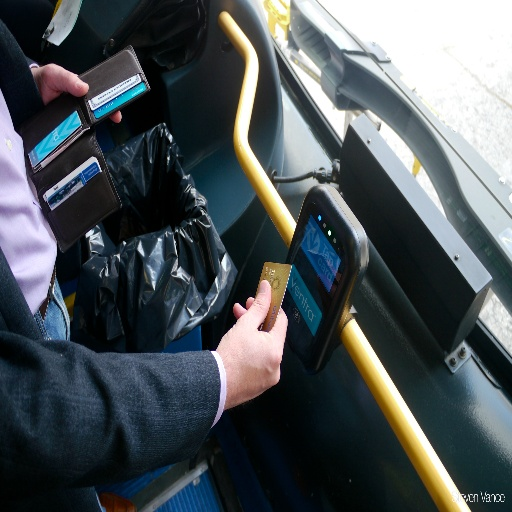hand: (219, 265, 284, 416), (35, 61, 121, 124)
